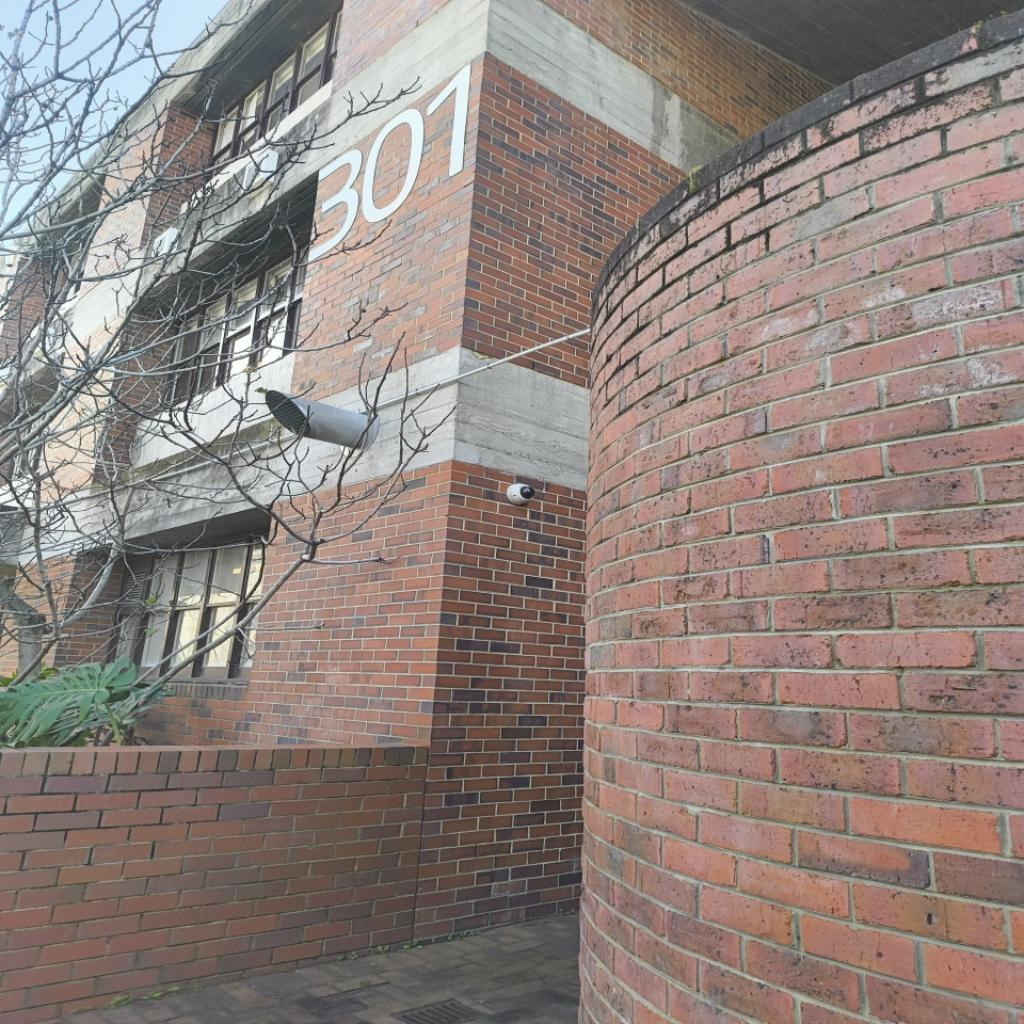BuildingCodes: (304, 60, 474, 268)
